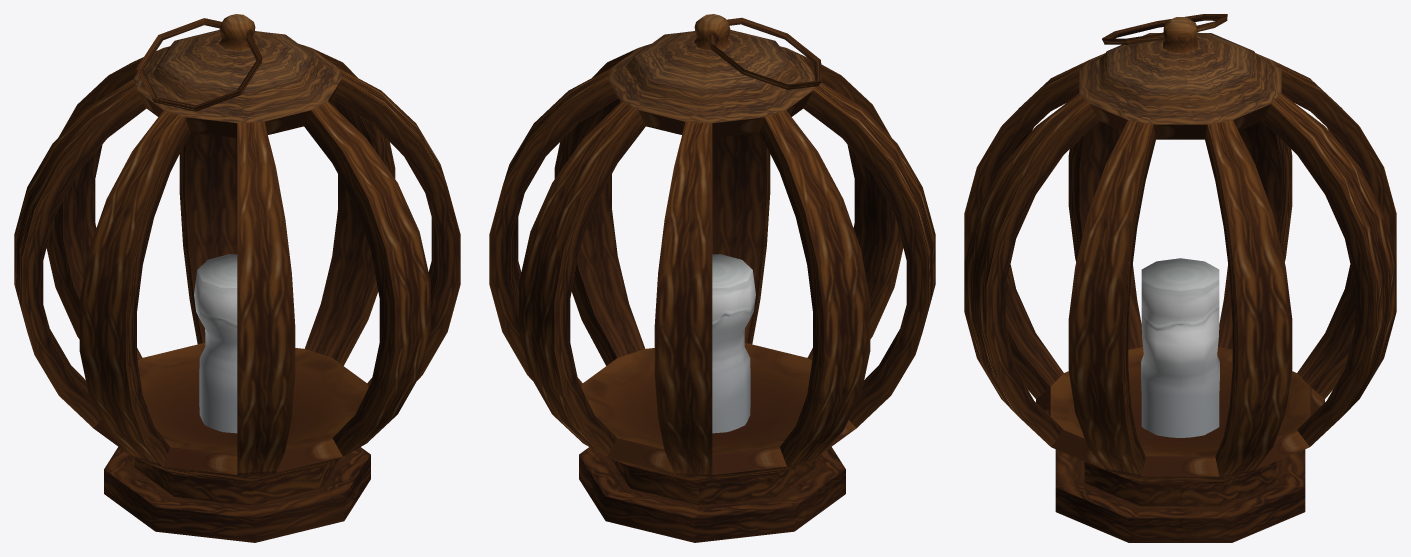
The model's file is MD_Lamp_01.fbx.
3 views of the same model, side by side, from view 1: azimuth 30°, elevation 25°; view 2: azimuth 150°, elevation 25°; view 3: azimuth 270°, elevation 25° (orthographic).
Parts seen in each view (by area): view 1: pTorus1; view 2: pTorus1; view 3: pTorus1.
Part boxes in pixels (x1=…): pTorus1: x1=14, y1=14, x2=460, y2=542; pTorus1: x1=489, y1=14, x2=935, y2=542; pTorus1: x1=964, y1=14, x2=1396, y2=542.
Size of the model in its own units: 21.1 by 25.35 by 21.1.
Materials: 1 (1 with a texture image).
